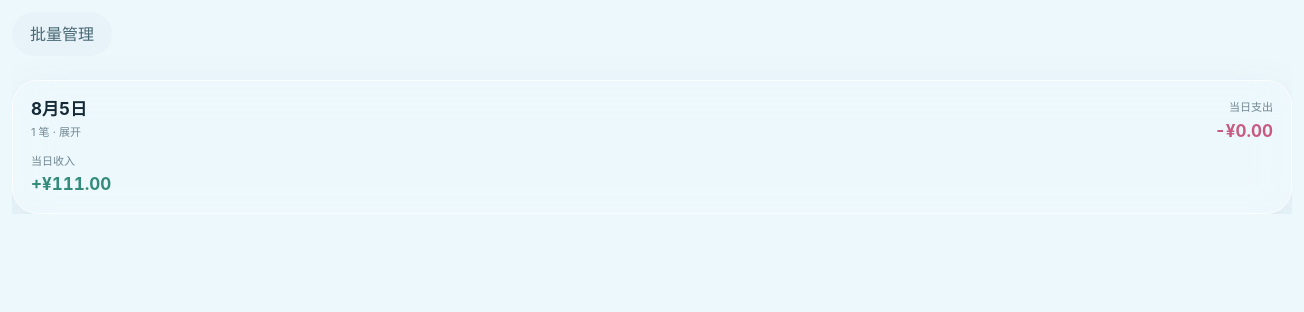
it: GroupedTransactions › shows the normalized primary and secondary category instead of imported noise
Click the button "8月5日 1 笔 · 展开 当日支出 -¥0.00 当日收入 +¥111.00": (652, 147) x1=13 y1=81 x2=1291 y2=213
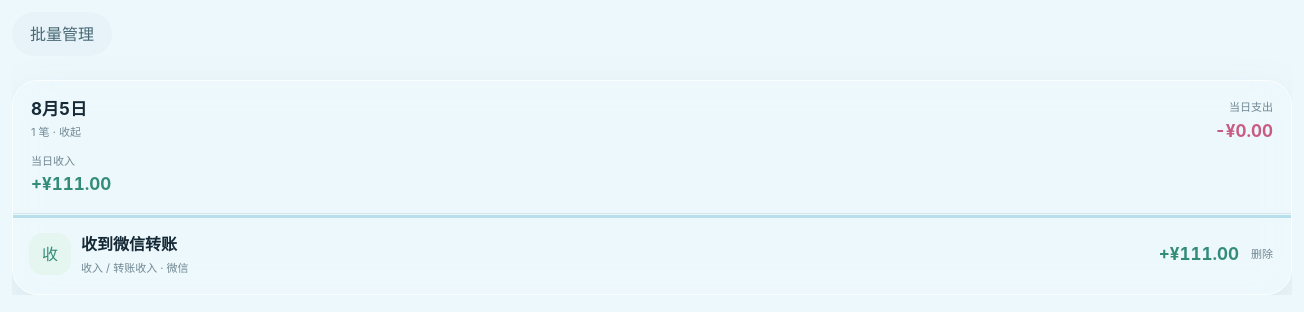
Expected: the text "收入 / 转账收入 · 微信" is shown, x1=81 y1=261 x2=188 y2=275
